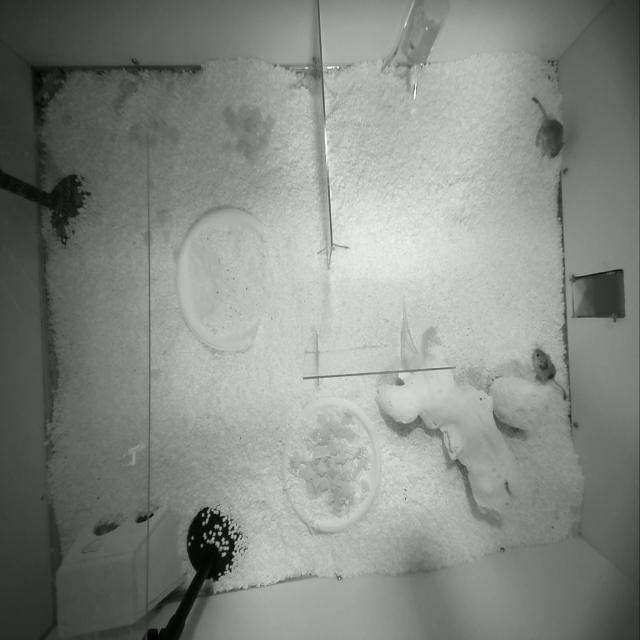pup_fluffy: (532, 98, 564, 157)
pup_spotted: (532, 348, 566, 399)
